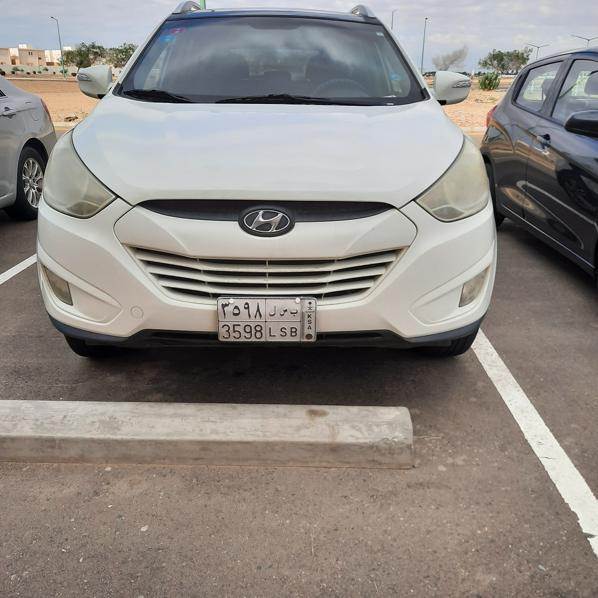numberplate: (219, 298, 316, 342)
